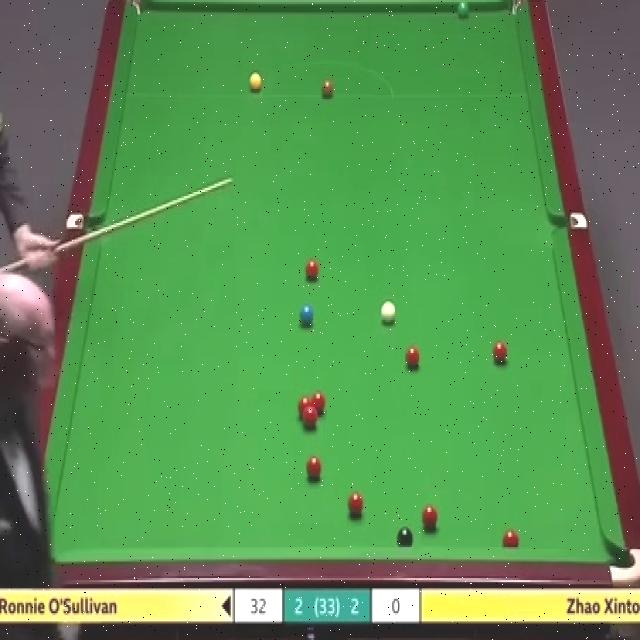black-ball: (394, 526, 412, 550)
blue-ball: (298, 304, 314, 329)
brown-ball: (319, 77, 334, 100)
green-ball: (456, 0, 471, 19)
red-ball: (405, 343, 422, 373), (420, 505, 438, 532), (347, 491, 365, 518), (305, 456, 322, 484), (492, 339, 508, 366), (304, 260, 321, 284), (312, 392, 326, 417), (503, 528, 519, 548), (298, 396, 311, 417), (304, 409, 317, 429)
white-ball: (380, 297, 398, 326)
yellow-ball: (247, 71, 262, 92)
